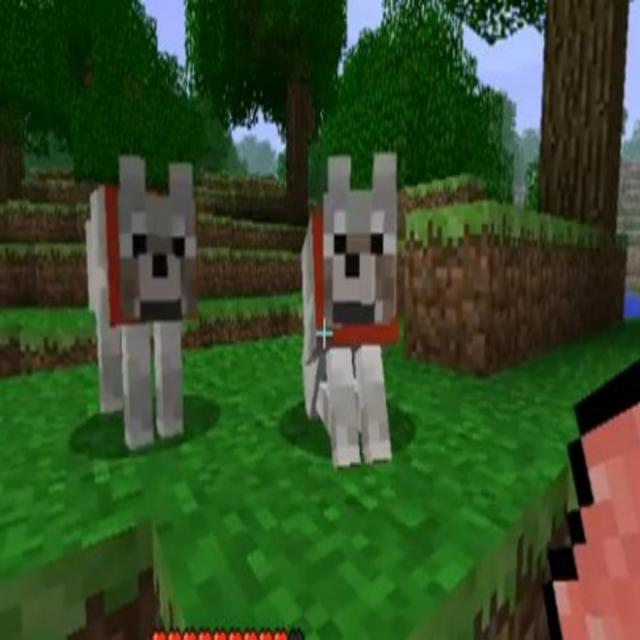Wolf: (85, 156, 199, 451), (300, 148, 399, 464)
